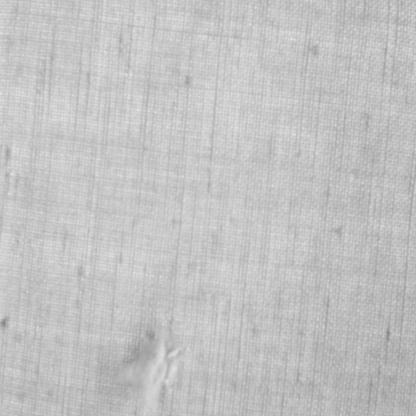objects: (119, 324, 181, 416)
